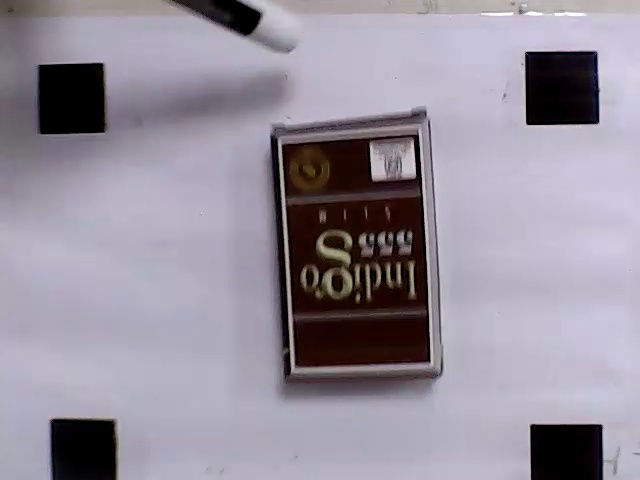BEX: (280, 124, 431, 370)
